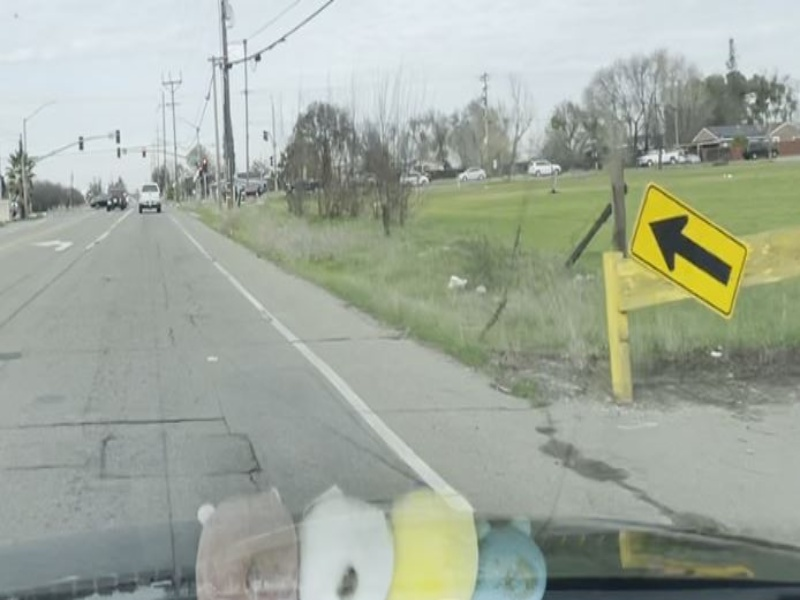merge sign: (626, 183, 753, 324)
